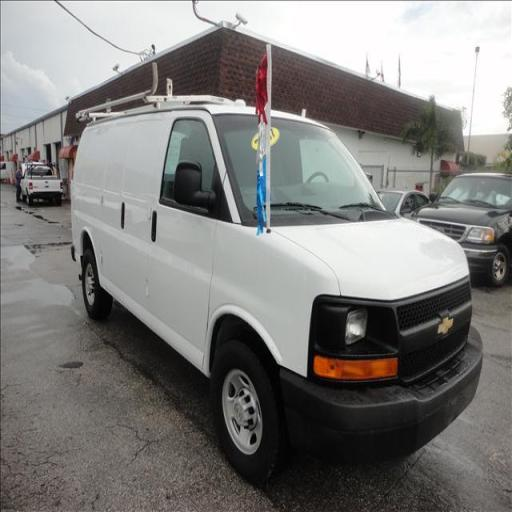normal: (52, 54, 500, 468)
